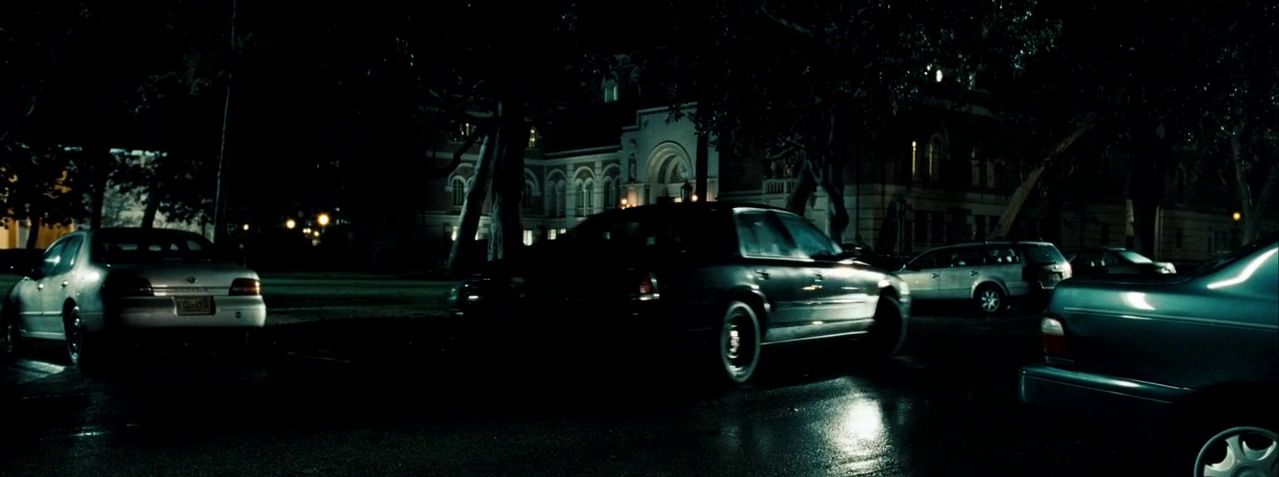car: (5, 224, 278, 377)
